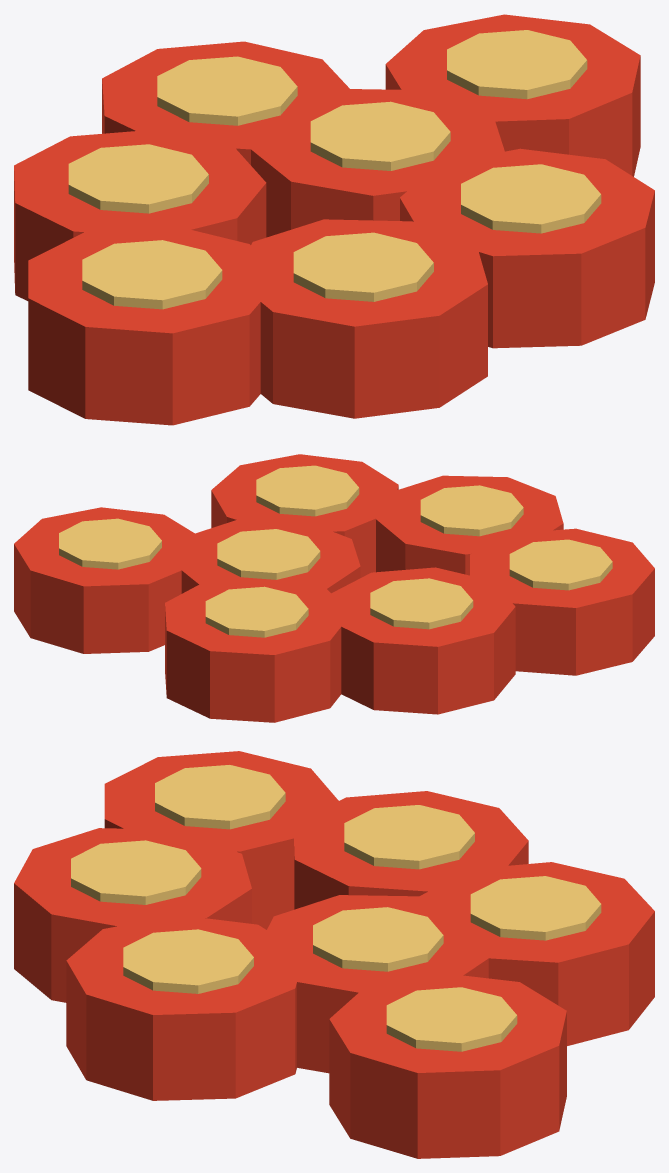
The model's file is FTF_Ingredient_Chopped_ChiliPepper.glb.
3 views of the same model, one above another, from view 1: azimuth 30°, elevation 25°; view 2: azimuth 150°, elevation 25°; view 3: azimuth 270°, elevation 25° (orthographic). The views are drawn at different scales.
Visible parts, largest first — view 1: Chili_Ring_00, Chili_Inner_00; view 2: Chili_Ring_00, Chili_Inner_00; view 3: Chili_Ring_00, Chili_Inner_00.
Part boxes in pixels (bbox=[...]): Chili_Ring_00: bbox=[14, 14, 654, 425]; Chili_Inner_00: bbox=[68, 30, 601, 309]; Chili_Ring_00: bbox=[14, 454, 654, 722]; Chili_Inner_00: bbox=[59, 465, 612, 637]; Chili_Ring_00: bbox=[14, 751, 654, 1158]; Chili_Inner_00: bbox=[71, 765, 601, 1051].
Size of the model in its own units: 0.7241 by 0.099 by 0.6091.
